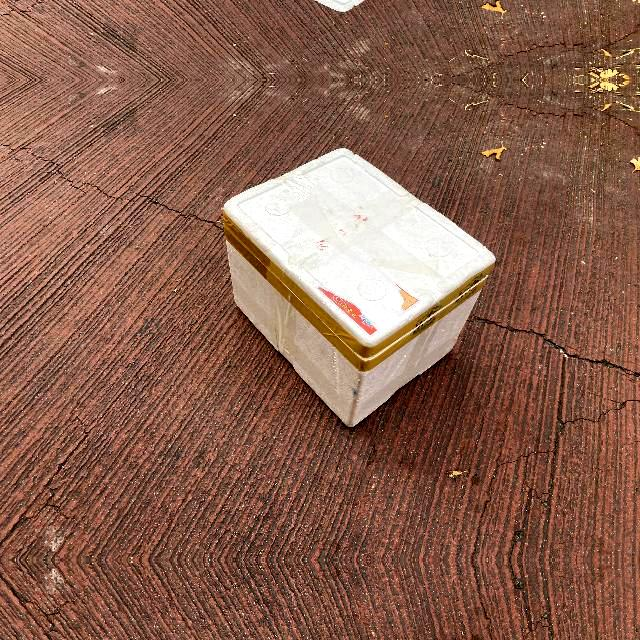Styrofoam: (223, 147, 494, 429), (223, 148, 496, 426)
